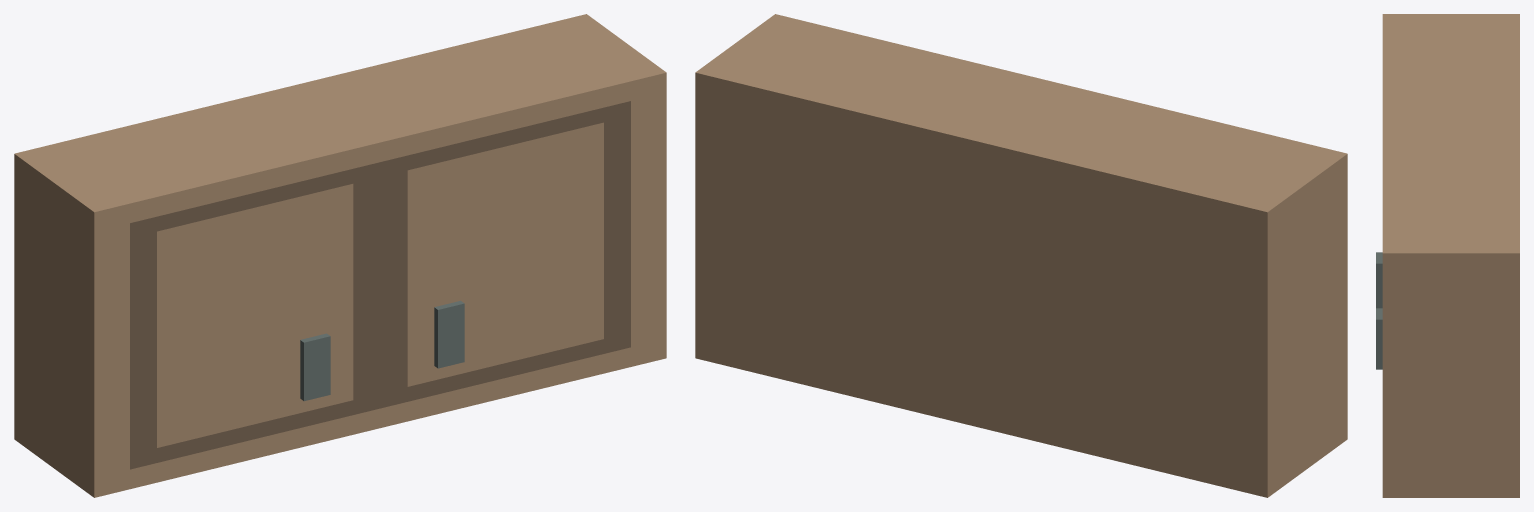
The model's file is upper_cabinet.glb.
3 renders of one model, left to right at view 1: azimuth 30°, elevation 25°; view 2: azimuth 150°, elevation 25°; view 3: azimuth 270°, elevation 25°, orthographic. The views are drawn at different scales.
Visible parts, largest first — view 1: kitchenCabinetUpperDouble(Clone), doorLeft, doorRight; view 2: kitchenCabinetUpperDouble(Clone); view 3: kitchenCabinetUpperDouble(Clone), doorRight, doorLeft.
Boxes of the visible parts, left/top/right/bottom form: kitchenCabinetUpperDouble(Clone): left=14, top=14, right=666, bottom=497; doorLeft: left=130, top=162, right=380, bottom=469; doorRight: left=380, top=101, right=630, bottom=408; kitchenCabinetUpperDouble(Clone): left=695, top=14, right=1347, bottom=497; kitchenCabinetUpperDouble(Clone): left=1382, top=14, right=1519, bottom=497; doorRight: left=1376, top=308, right=1382, bottom=369; doorLeft: left=1376, top=252, right=1382, bottom=308.
Bounding box in the file's own units: 1.3 × 0.62 × 0.33.
